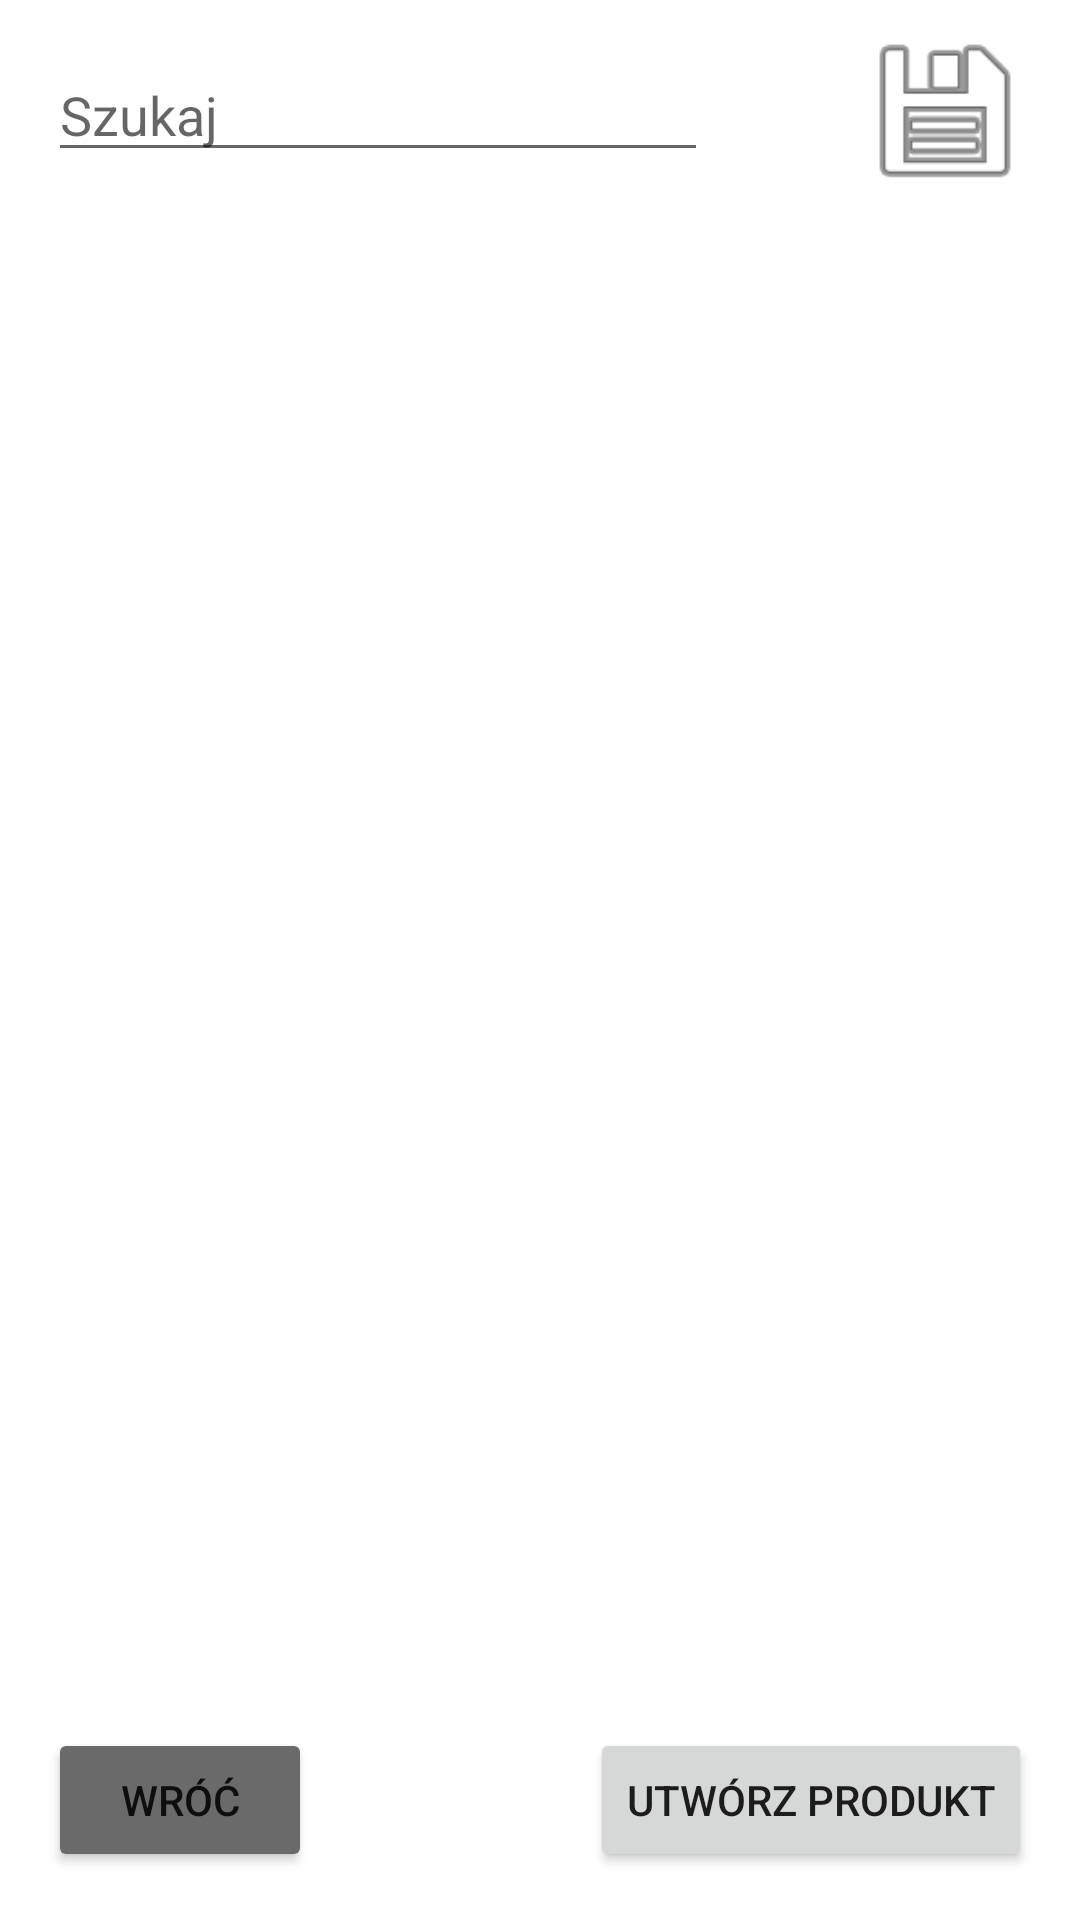

Icons on this 1080×1920 Android screen, each with the point to tap as point (x, y):
save: point (945, 110)
